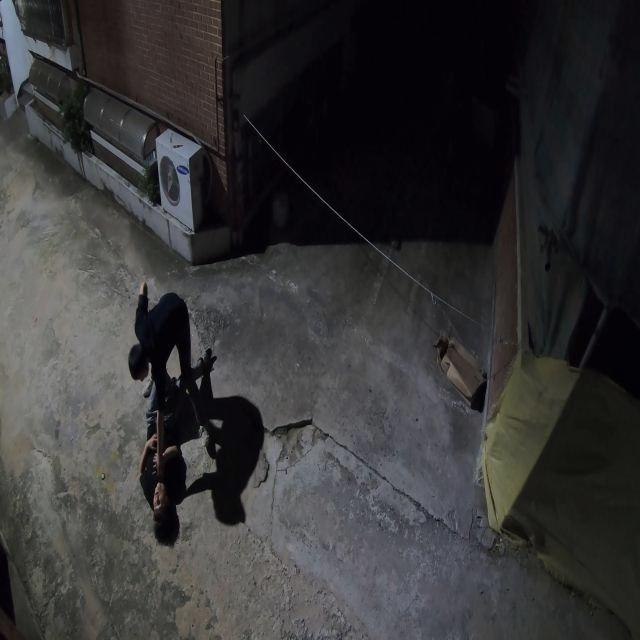fight: (123, 282, 227, 541)
